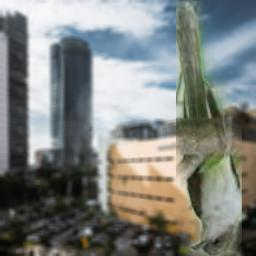Cuckoo: (176, 1, 242, 256)
